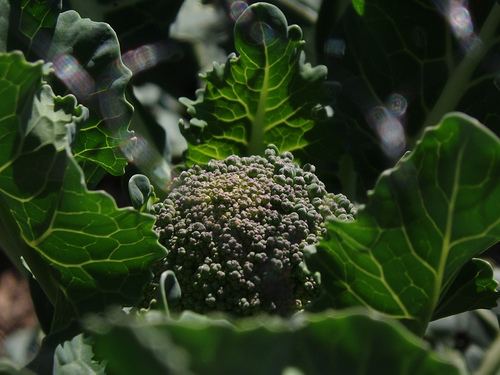broccoli: (146, 141, 366, 320)
